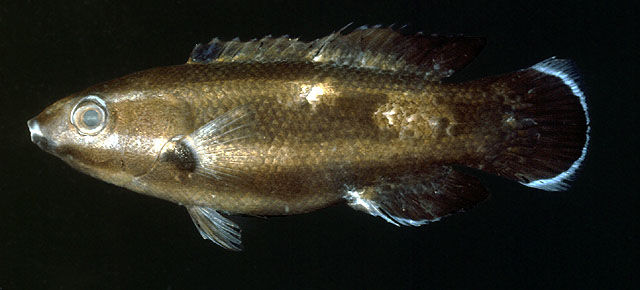fish: (26, 23, 592, 253)
